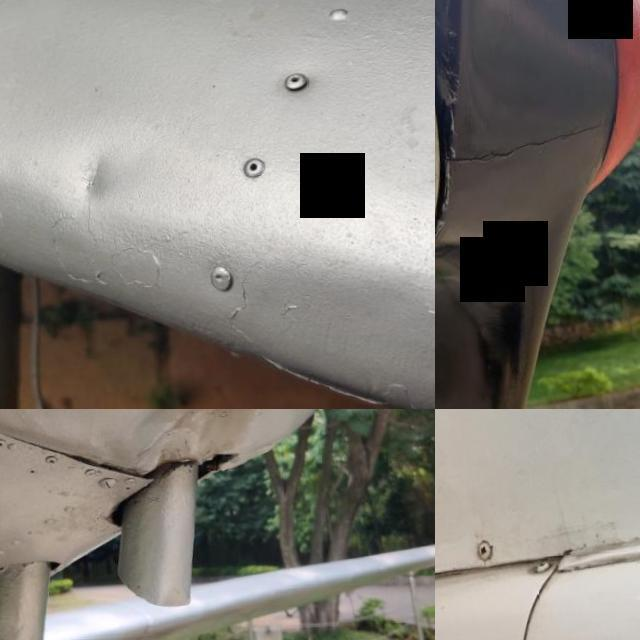Crack: (442, 110, 612, 188), (468, 537, 489, 566)
Dent: (103, 409, 275, 499), (23, 122, 152, 238)
